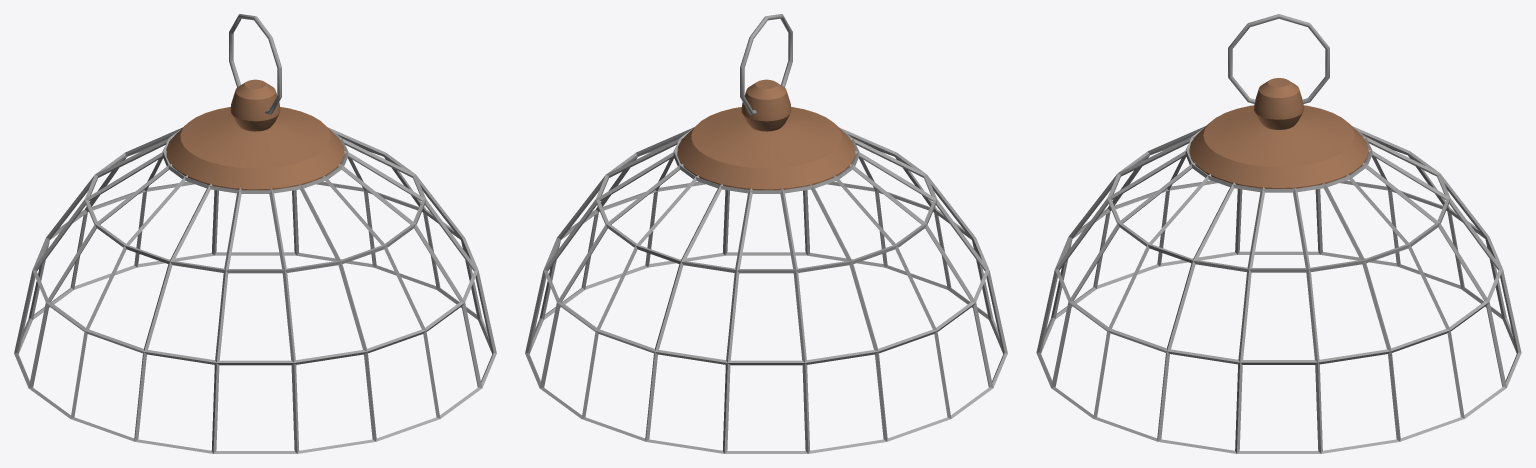
Rendered from topOfcage.fbx.
The picture shows the model from 3 angles, left to right: view 1: azimuth 30°, elevation 25°; view 2: azimuth 150°, elevation 25°; view 3: azimuth 270°, elevation 25°; orthographic projection.
Visible parts, largest first — view 1: Sphere, Cylinder.019, Torus; view 2: Sphere, Cylinder.019, Torus; view 3: Sphere, Cylinder.019, Torus.
Boxes of the visible parts, x1,y1,x2,y2 form: Sphere: (14,127,496,453); Cylinder.019: (166,79,344,190); Torus: (229,14,281,114); Sphere: (525,127,1007,453); Cylinder.019: (677,79,855,190); Torus: (740,14,792,114); Sphere: (1036,126,1521,453); Cylinder.019: (1189,78,1368,188); Torus: (1228,14,1329,103).
Size of the model in its own units: 199 by 156 by 202.
